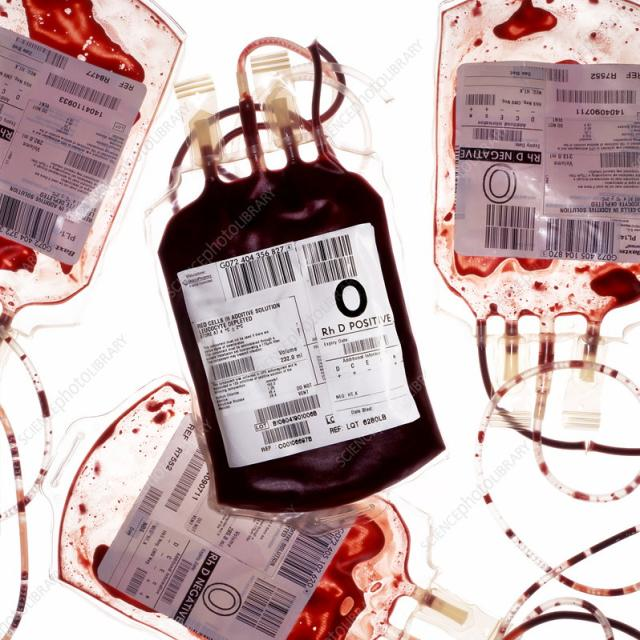B3: (149, 103, 453, 508), (425, 3, 639, 398)
